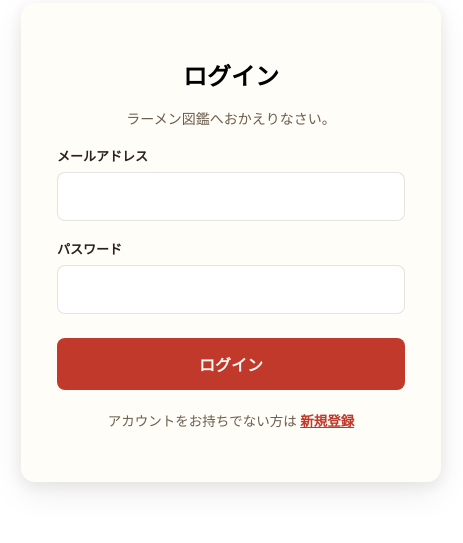
Test: LoginPage › 想定外のエラーでも汎用メッセージを表示する
In the field labelled "メールアドレス": coordinates (231, 197) [57,172,405,221], type "taro@example.com"
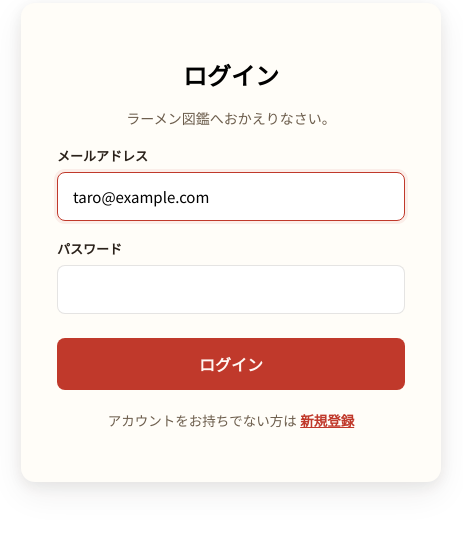
In the password field labelled "パスワード": coordinates (231, 290) [57,265,405,314], type "password123"
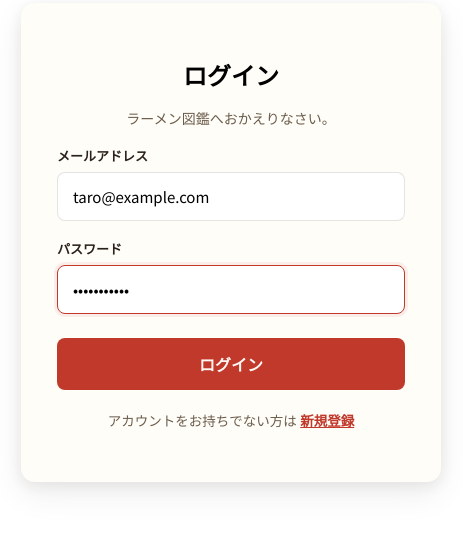
Click the button "ログイン": coordinates (231, 364) [57,338,405,390]
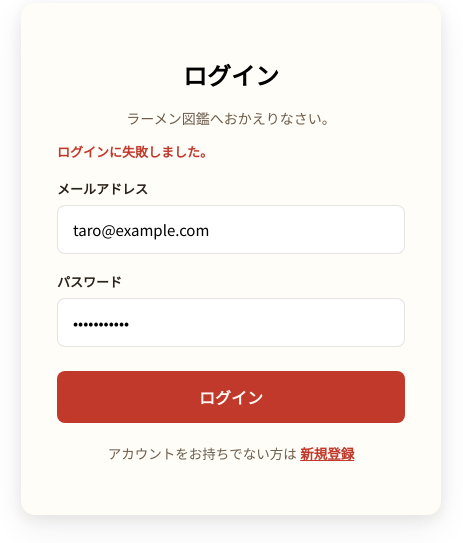
Now the text "ログインに失敗しました。" is shown, box [57,145,213,160]
